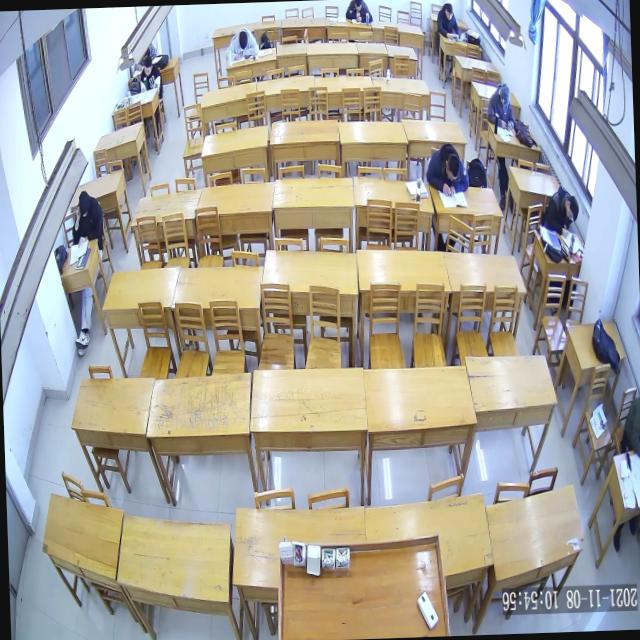bow: (422, 141, 469, 198), (222, 24, 260, 61), (342, 0, 372, 24)
down: (564, 192, 580, 226), (444, 152, 461, 183), (76, 188, 92, 220), (498, 82, 512, 108), (142, 54, 153, 78), (236, 29, 248, 51), (444, 2, 454, 22), (353, 0, 362, 12)
sit: (540, 182, 580, 240), (70, 188, 104, 250), (486, 81, 516, 132), (434, 1, 462, 43), (138, 54, 163, 94)
